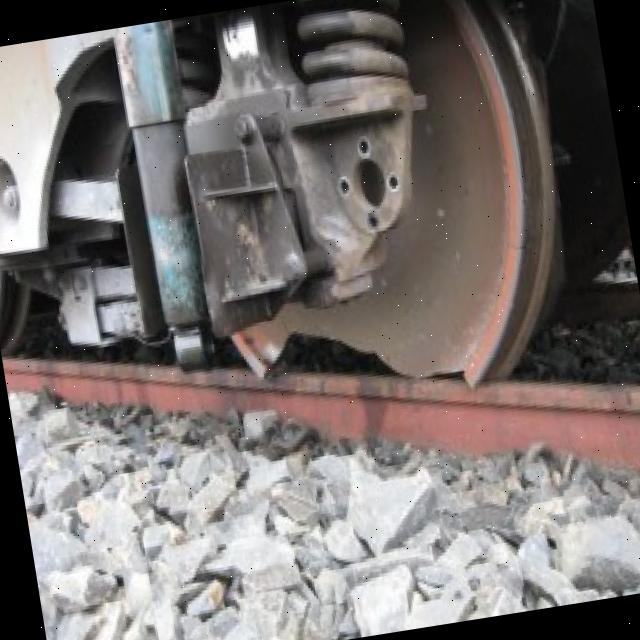Out_Of_Roundness: (168, 261, 544, 502)
